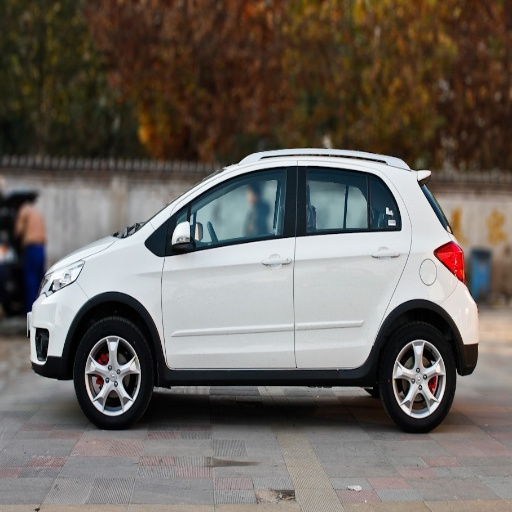back_bumper: (445, 293, 479, 348)
back_left_door: (295, 161, 410, 366)
front_left_door: (162, 162, 298, 365)
